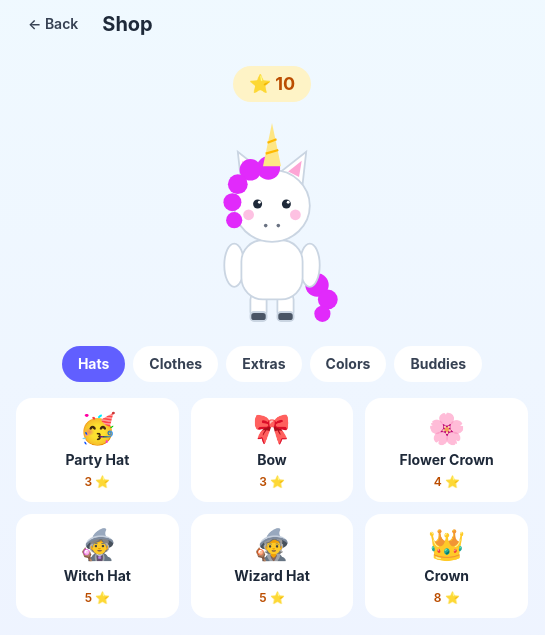
Test: ShopScreen › only lists items that fit the current buddy
Step 1. Click the tab "Extras" → (264, 364), box [226, 346, 302, 382]
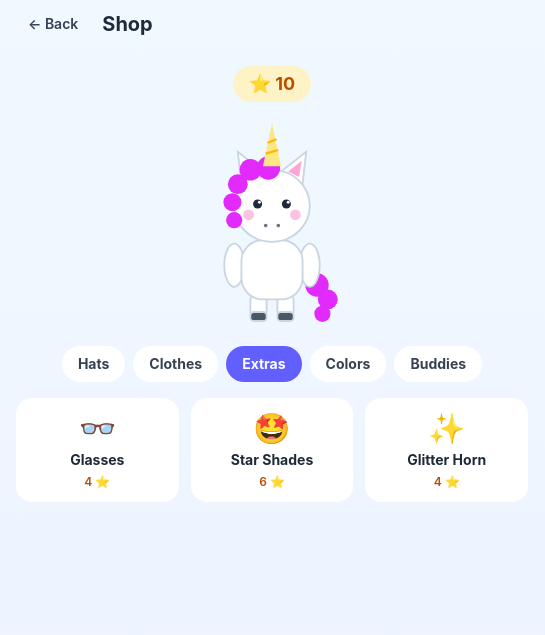
Now the button "✨ Glitter Horn 4 ⭐" is shown, box [365, 398, 528, 502]
